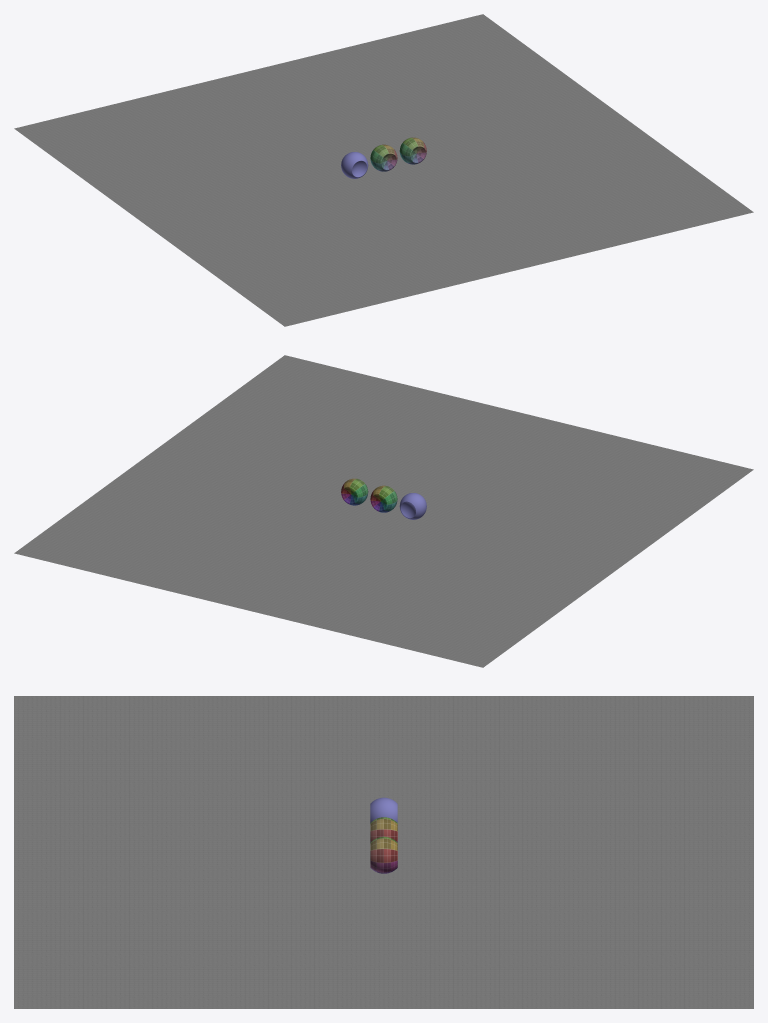
File: normalmap_pl.gltf
The picture shows the model from 3 angles, top to bottom: view 1: azimuth 30°, elevation 25°; view 2: azimuth 150°, elevation 25°; view 3: azimuth 270°, elevation 25°; orthographic projection. The views are drawn at different scales.
Visible parts, largest first — view 1: floor_matte_grid, flipcapsphere_plastic_bumped, flipcapsphere_plastic_blue, flipcapsphere_plastic_bumped!2; view 2: floor_matte_grid, flipcapsphere_plastic_bumped, flipcapsphere_plastic_blue, flipcapsphere_plastic_bumped!2; view 3: floor_matte_grid, flipcapsphere_plastic_bumped!2, flipcapsphere_plastic_blue, flipcapsphere_plastic_bumped.
Part boxes in pixels (bbox=[...]): floor_matte_grid: bbox=[14, 14, 753, 326]; flipcapsphere_plastic_bumped: bbox=[370, 144, 397, 171]; flipcapsphere_plastic_blue: bbox=[341, 152, 368, 178]; flipcapsphere_plastic_bumped!2: bbox=[399, 137, 426, 164]; floor_matte_grid: bbox=[14, 355, 753, 667]; flipcapsphere_plastic_bumped: bbox=[370, 485, 397, 512]; flipcapsphere_plastic_blue: bbox=[399, 493, 426, 519]; flipcapsphere_plastic_bumped!2: bbox=[341, 478, 368, 505]; floor_matte_grid: bbox=[14, 696, 753, 1008]; flipcapsphere_plastic_bumped!2: bbox=[370, 836, 397, 873]; flipcapsphere_plastic_blue: bbox=[370, 797, 397, 822]; flipcapsphere_plastic_bumped: bbox=[370, 817, 397, 842].
Bounding box in the file's own units: 40 × 2 × 40.
3 materials, 2 textured.
